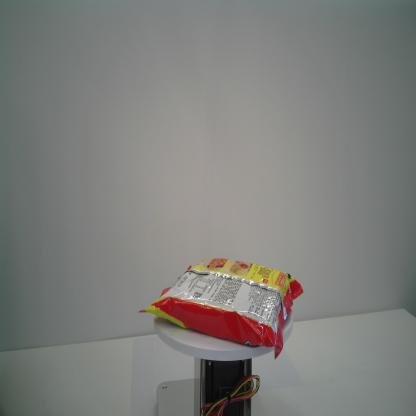Instant Noodles: (138, 257, 304, 361)
